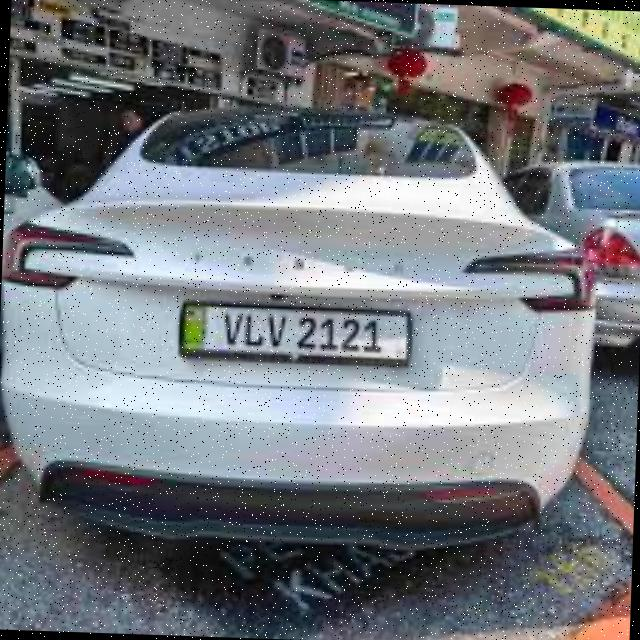License_Plate: (176, 298, 414, 368)
car: (1, 93, 606, 580)
